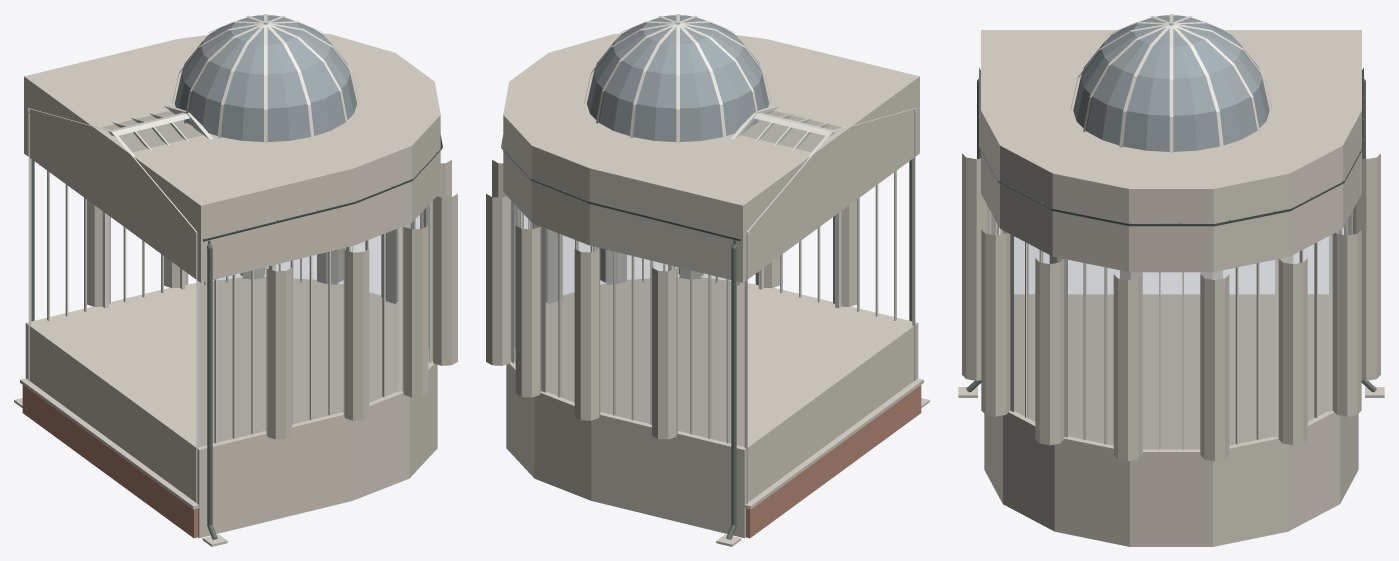
The model's file is pullman_glasshouse_1800_calumet_east_end__as_standing_1904.glb.
The picture shows the model from 3 angles, left to right: view 1: azimuth 30°, elevation 25°; view 2: azimuth 150°, elevation 25°; view 3: azimuth 270°, elevation 25°; orthographic projection. The views are drawn at different scales.
Visible parts, largest first — view 1: pullman_glasshouse_1800_calumet_east_end__as_standing_1904; view 2: pullman_glasshouse_1800_calumet_east_end__as_standing_1904; view 3: pullman_glasshouse_1800_calumet_east_end__as_standing_1904.
Part boxes in pixels (<box>): pullman_glasshouse_1800_calumet_east_end__as_standing_1904: <box>14,14,457,546</box>; pullman_glasshouse_1800_calumet_east_end__as_standing_1904: <box>486,14,929,546</box>; pullman_glasshouse_1800_calumet_east_end__as_standing_1904: <box>958,14,1384,546</box>.
Size of the model in its own units: 6.14 by 7.5 by 6.5.
